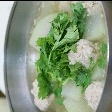dongguawanzi: (23, 0, 108, 112)
